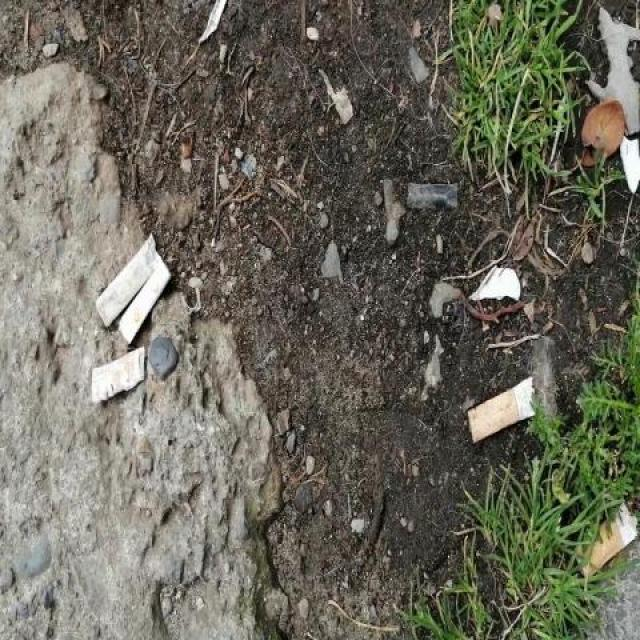non-organic waste: (92, 228, 160, 332), (118, 250, 190, 346), (463, 369, 541, 450), (576, 496, 640, 584), (87, 344, 162, 407)
